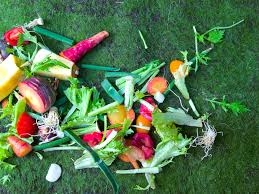kitchen_waste: (63, 78, 104, 128), (18, 76, 57, 112), (129, 130, 156, 160), (104, 105, 139, 128), (5, 134, 36, 159), (15, 111, 38, 138), (134, 114, 153, 133)
plastic: (72, 130, 126, 172), (117, 55, 168, 96), (59, 26, 112, 64), (29, 46, 81, 82), (151, 116, 191, 161), (1, 50, 27, 107), (189, 119, 225, 160), (27, 23, 74, 45), (113, 163, 162, 179), (98, 77, 125, 105), (78, 60, 126, 73), (102, 69, 135, 78)
